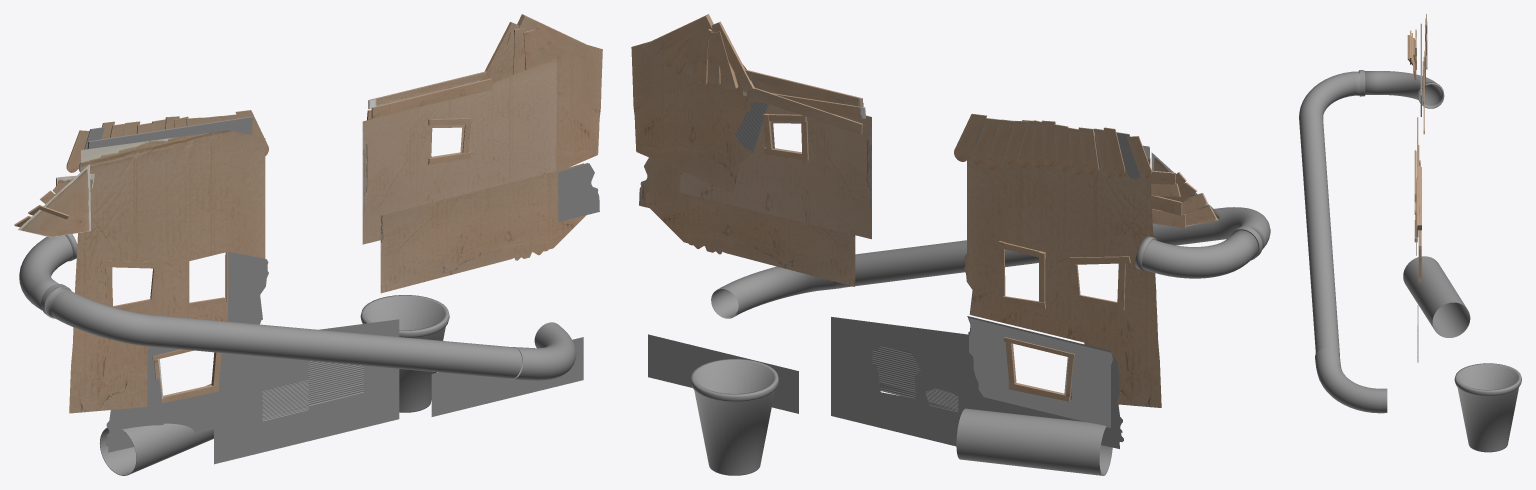
The model's file is BGstage_1.FBX.
The picture shows the model from 3 angles, left to right: view 1: azimuth 30°, elevation 25°; view 2: azimuth 150°, elevation 25°; view 3: azimuth 270°, elevation 25°; orthographic projection. The views are drawn at different scales.
Visible parts, largest first — view 1: Plane002, Plane006, Object004, Plane012, Plane013, Box059, Plane005, Box056, Cup, Plane010, Cylinder001, Plane004 (+9 smaller); view 2: Plane002, Box059, Plane013, Plane006, Plane005, Plane012, Cup, Cylinder001, Plane016, Object004, Box056, Object003 (+5 smaller); view 3: Object004, Cup, Cylinder001, Line002, Object003, Box059, Box056.
Part boxes in pixels (box(x1,y1,x2,y2)): Plane002: box(69, 130, 265, 413); Plane006: box(362, 57, 556, 244); Object004: box(41, 284, 521, 378); Plane012: box(380, 163, 585, 293); Plane013: box(214, 319, 399, 464); Box059: box(55, 14, 588, 402); Plane005: box(480, 28, 602, 170); Box056: box(14, 22, 563, 237); Cup: box(360, 295, 449, 412); Plane010: box(431, 337, 583, 416); Cylinder001: box(99, 383, 213, 475); Plane004: box(147, 320, 261, 419); Plane002: box(964, 142, 1161, 407); Box059: box(642, 14, 1186, 401); Plane013: box(831, 317, 1009, 446); Plane006: box(679, 89, 871, 239); Plane005: box(631, 41, 761, 193); Plane012: box(645, 159, 855, 286); Cup: box(690, 359, 778, 475); Cylinder001: box(956, 408, 1112, 475); Plane016: box(969, 318, 1112, 427); Object004: box(833, 207, 1270, 287); Box056: box(669, 21, 1223, 226); Object003: box(1142, 230, 1258, 278); Object004: box(1299, 70, 1365, 355); Cup: box(1454, 363, 1521, 452); Cylinder001: box(1403, 256, 1470, 337); Line002: box(1315, 347, 1387, 413); Object003: box(1358, 71, 1441, 105); Box059: box(1413, 14, 1427, 282); Box056: box(1407, 30, 1427, 178).
Size of the model in its own units: 1868 by 1202 by 798.
